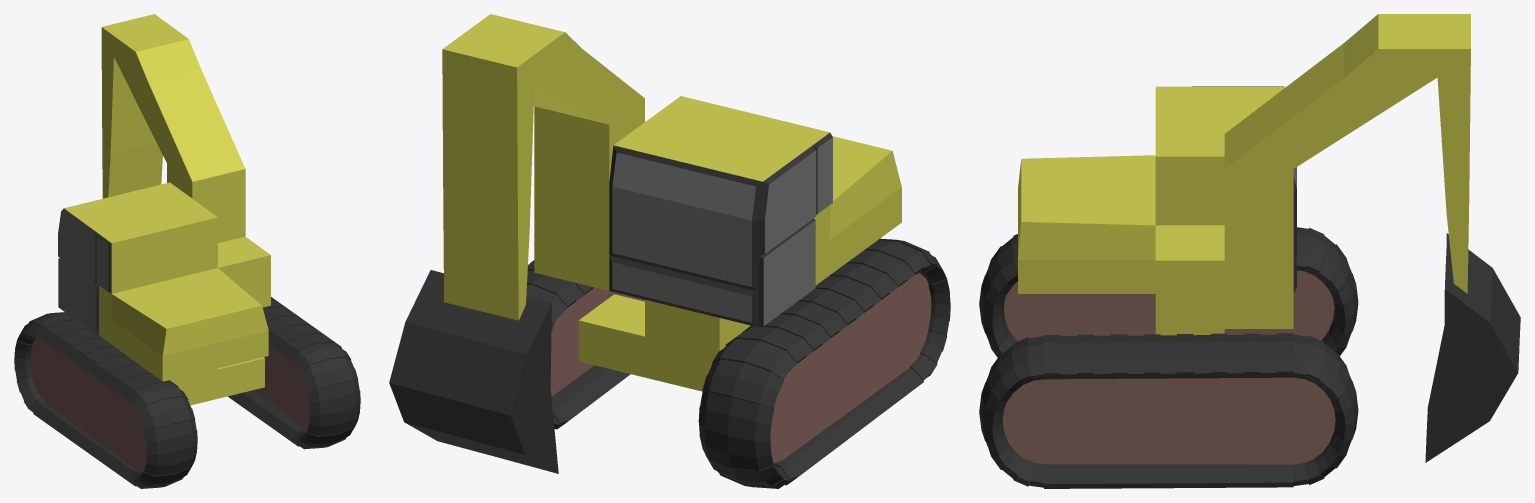
Rendered from Digger.fbx.
3 renders of one model, left to right at view 1: azimuth 30°, elevation 25°; view 2: azimuth 150°, elevation 25°; view 3: azimuth 270°, elevation 25°, orthographic. The views are drawn at different scales.
Parts seen in each view (by area): view 1: Torus.002, Cube.001, Cube; view 2: Torus.002, Cube.001, Cube; view 3: Torus.002, Cube, Cube.001.
Boxes of the visible parts, bbox=[...] form: Torus.002: bbox=[14, 14, 360, 488]; Cube.001: bbox=[30, 337, 146, 472]; Cube: bbox=[254, 345, 309, 428]; Torus.002: bbox=[389, 14, 950, 488]; Cube.001: bbox=[770, 272, 931, 463]; Cube: bbox=[550, 287, 644, 396]; Torus.002: bbox=[979, 14, 1520, 488]; Cube: bbox=[1002, 377, 1335, 464]; Cube.001: bbox=[1003, 270, 1334, 341].
Size of the model in its own units: 500 by 700 by 800.
